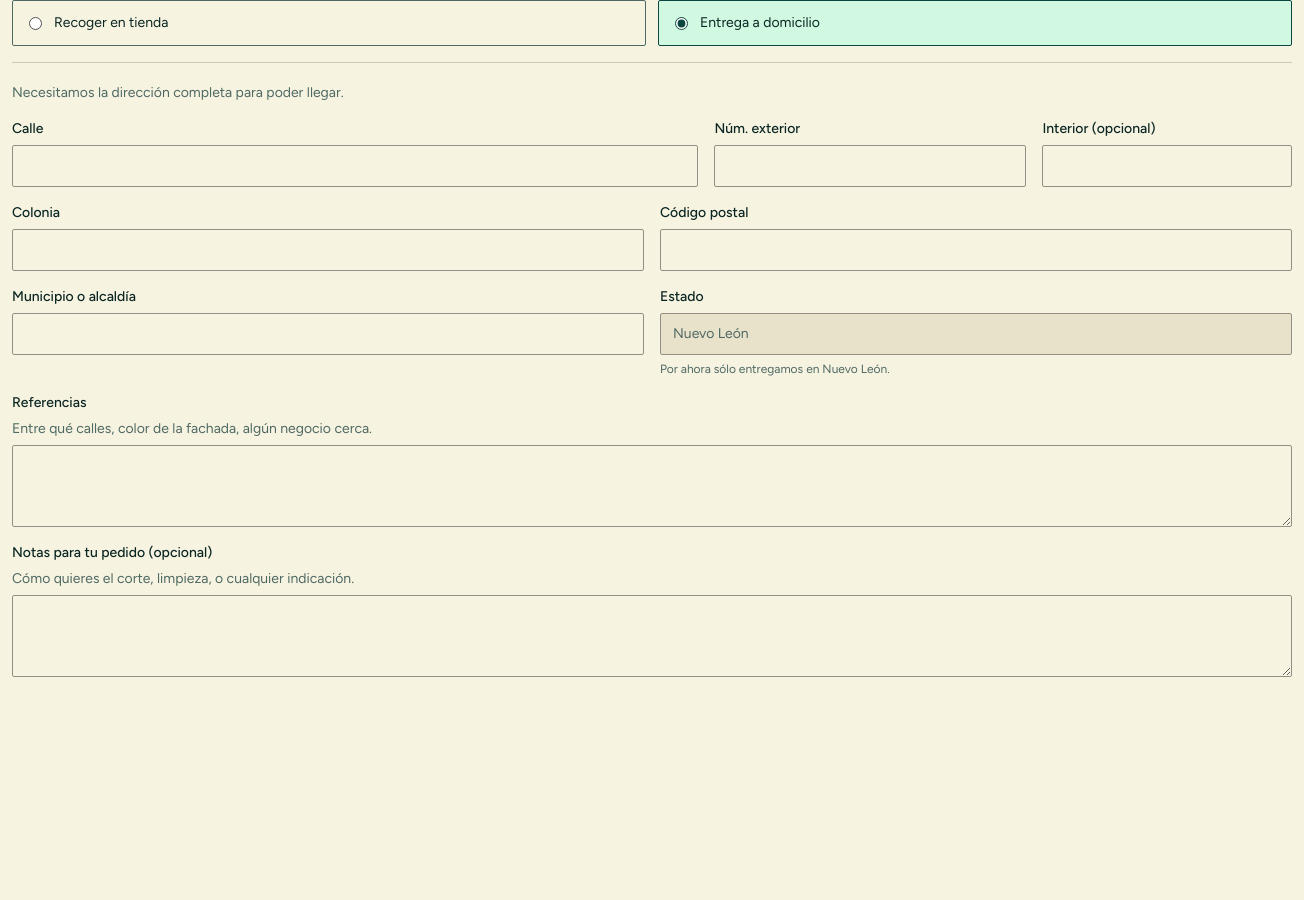
it: la dirección › desaparece al volver a recoger
Expected: the field labelled "Calle" is shown, [12,145,698,187]
What coordinates should you click on to do the following:
click the radio button labelled "Recoger en tienda"
I would click on:
 (36, 23)
Its box is [29,16,42,30].
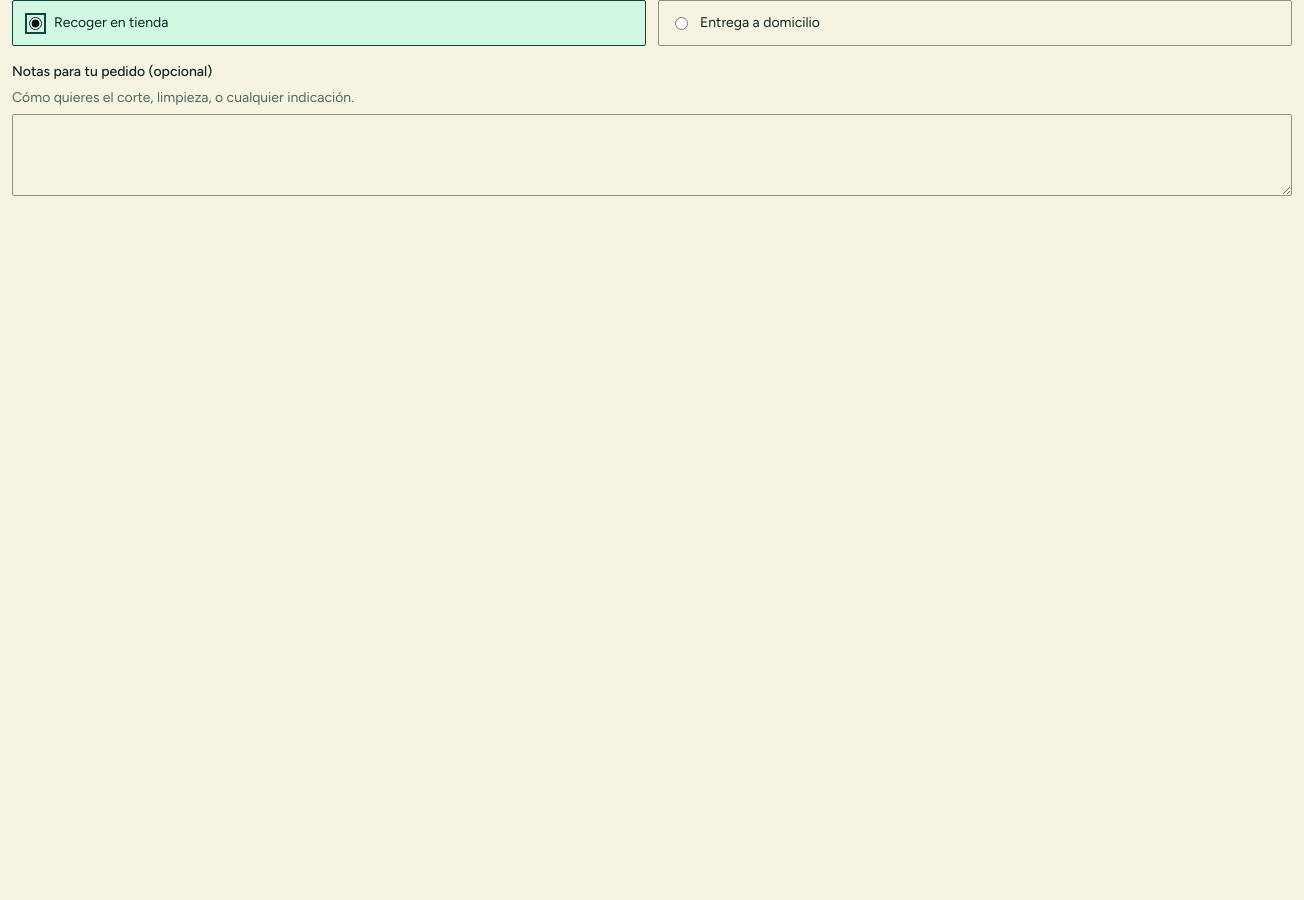
Now the label labelled "Calle" is gone
